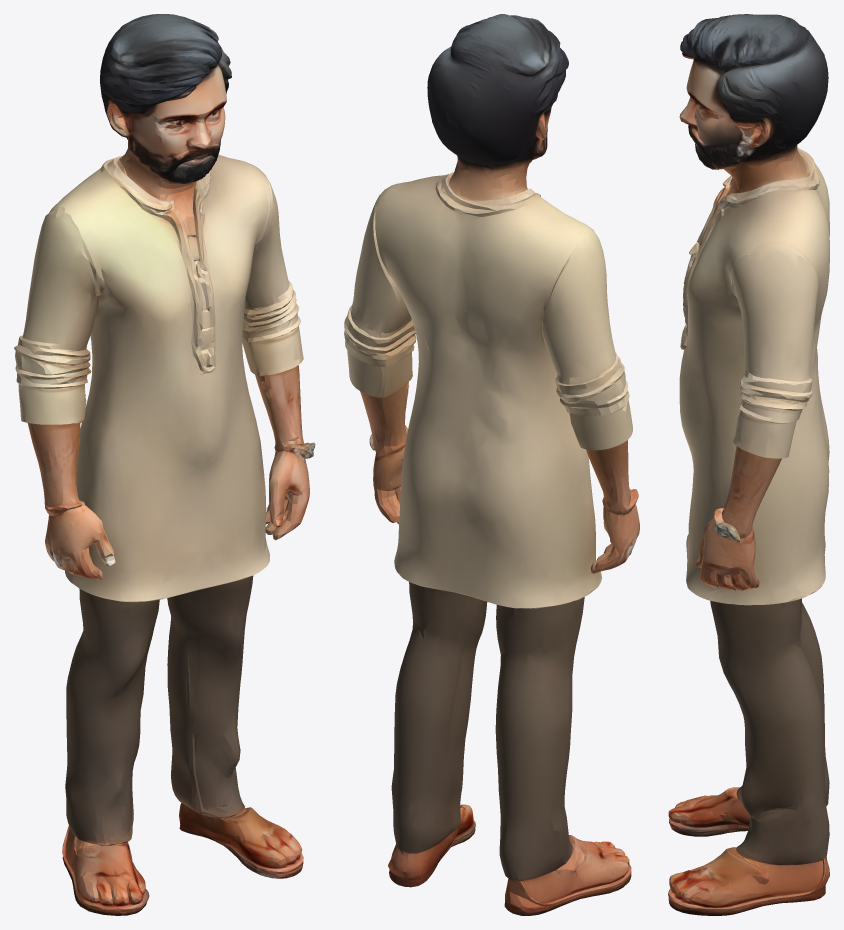
The model's file is hyper3d-indian-man-1.glb.
The picture shows the model from 3 angles, left to right: view 1: azimuth 30°, elevation 25°; view 2: azimuth 150°, elevation 25°; view 3: azimuth 270°, elevation 25°; orthographic projection.
Parts seen in each view (by area): view 1: model; view 2: model; view 3: model.
Boxes of the visible parts, x1=… form: model: x1=14, y1=14, x2=315, y2=915; model: x1=344, y1=14, x2=639, y2=915; model: x1=668, y1=14, x2=829, y2=915.
Bounding box in the file's own units: 0.6529 × 1.9 × 0.33.
1 material, 1 textured.
